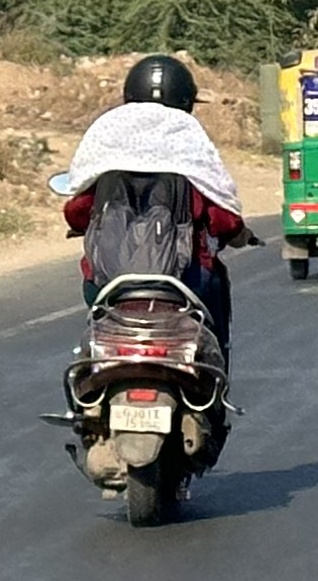BikeWithRider: (33, 46, 272, 534)
Helmet: (113, 48, 206, 121)
